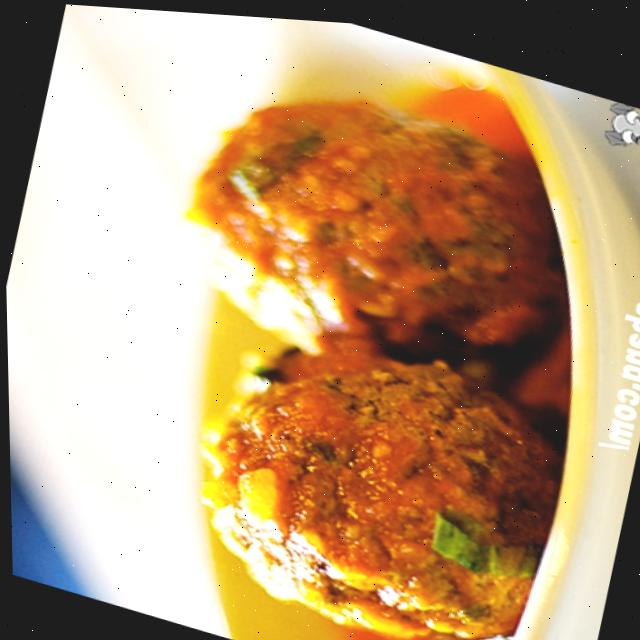猪肉菜式: (27, 1, 640, 640)
